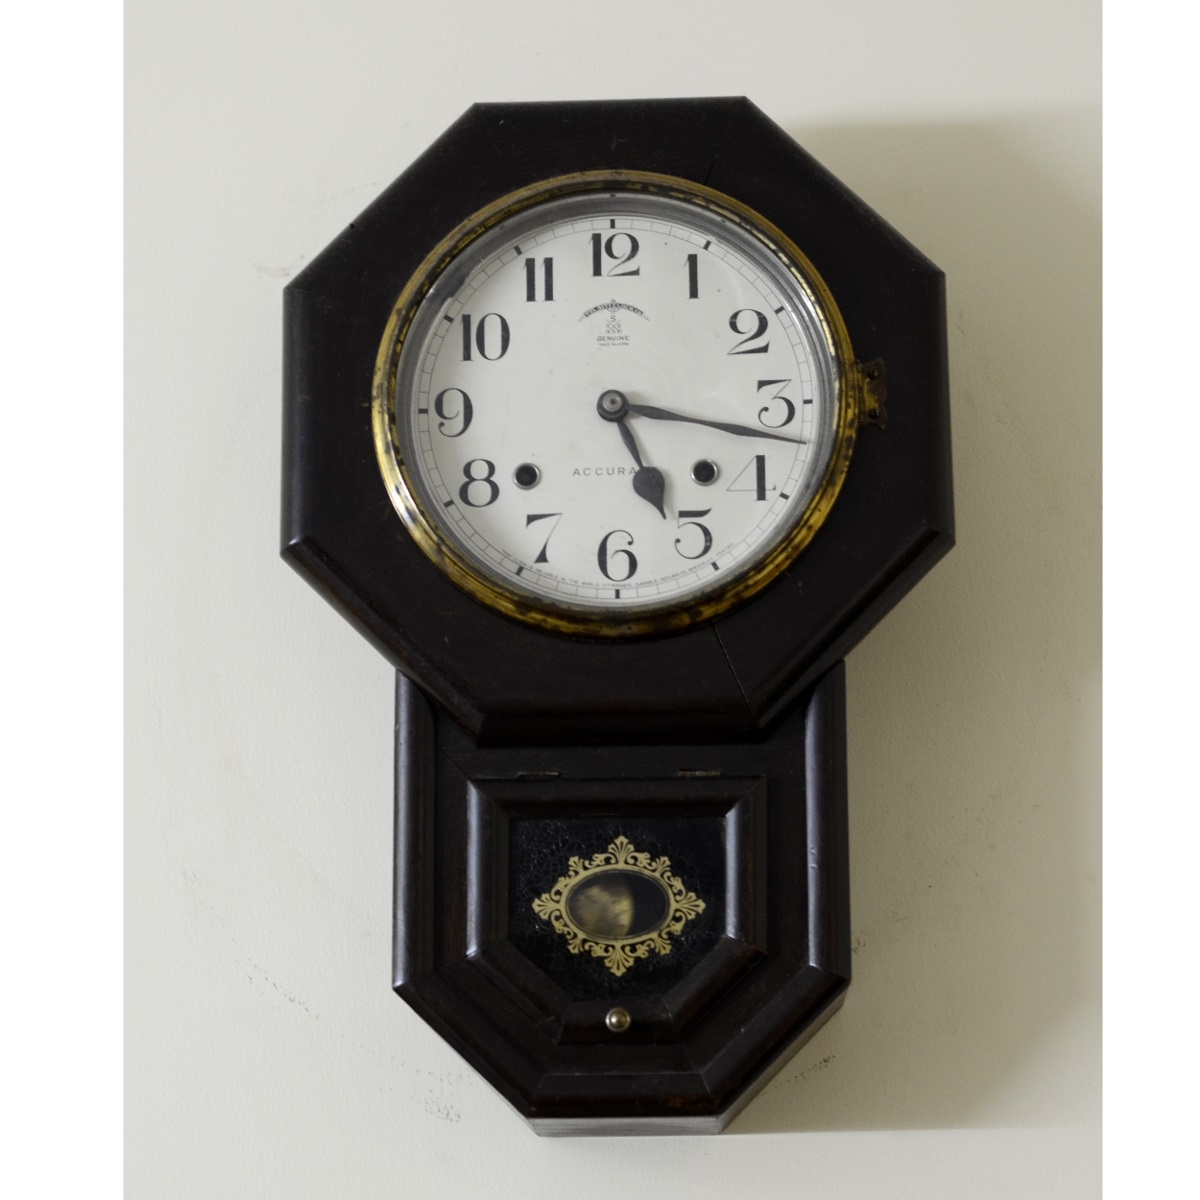clock: (404, 182, 841, 630)
